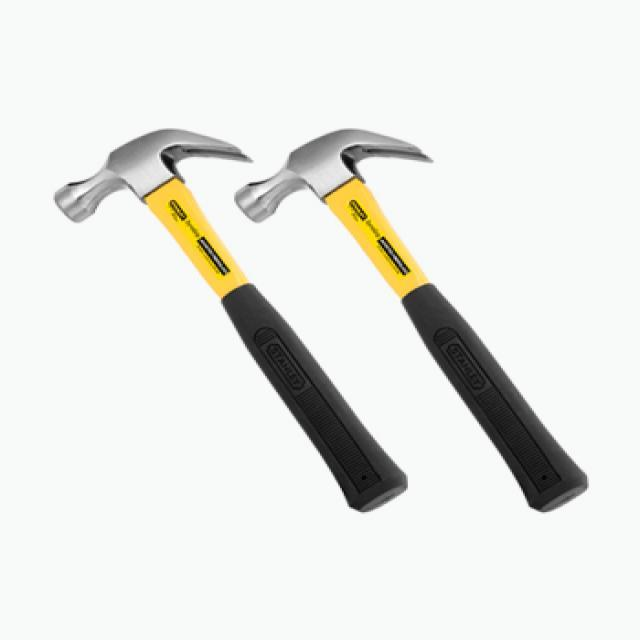hammer: (228, 124, 598, 526), (46, 118, 417, 517)
